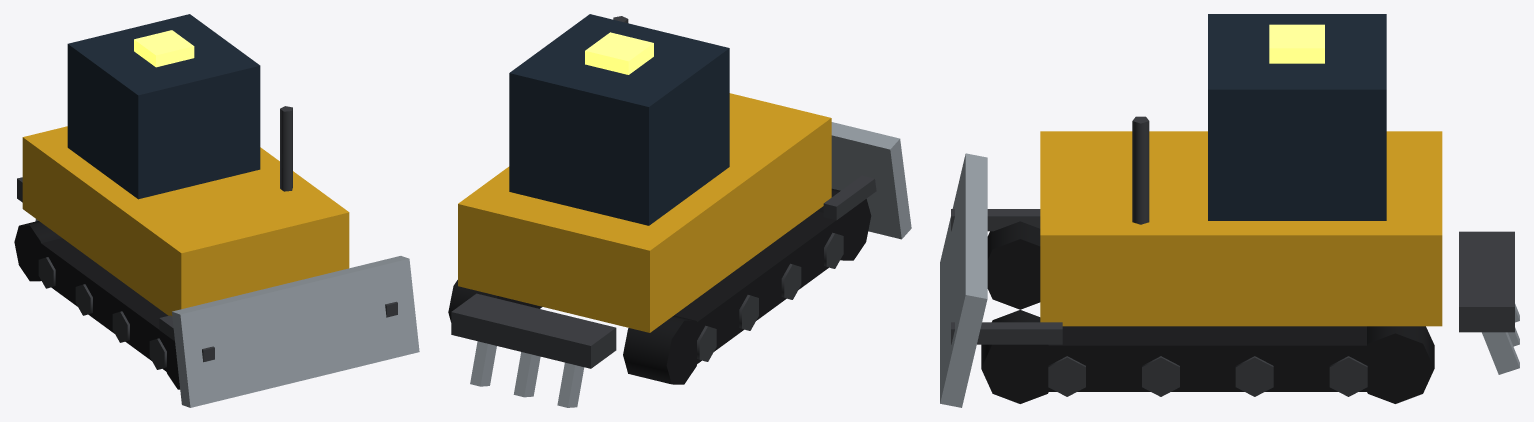
Rendered from veh_ground_bulldozer_a08.glb.
3 renders of one model, left to right at view 1: azimuth 30°, elevation 25°; view 2: azimuth 150°, elevation 25°; view 3: azimuth 270°, elevation 25°, orthographic. The views are drawn at different scales.
Visible parts, largest first — view 1: body, blade, track_r; view 2: body, track_r, ripper, blade, track_l; view 3: body, track_l, blade, ripper, track_r.
Part boxes in pixels (x1,y1,x2,y2): body: [22, 14, 349, 315]; blade: [159, 256, 419, 407]; track_r: [14, 221, 180, 389]; body: [458, 14, 831, 332]; track_r: [623, 188, 871, 384]; ripper: [451, 293, 616, 407]; blade: [823, 122, 911, 239]; track_l: [448, 280, 542, 322]; body: [1040, 14, 1442, 326]; track_l: [981, 310, 1434, 403]; blade: [940, 153, 1062, 407]; ripper: [1459, 231, 1519, 374]; track_r: [987, 221, 1040, 309].
Size of what is drawn, in the model's own units: 3 by 3.08 by 5.19.
